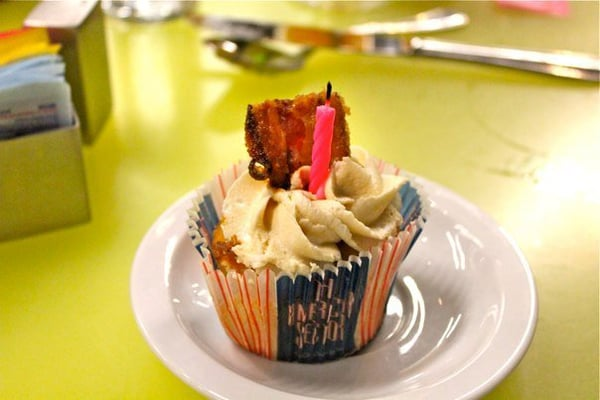curry: (0, 3, 582, 398)
sushi: (189, 81, 425, 363), (243, 81, 355, 188)
